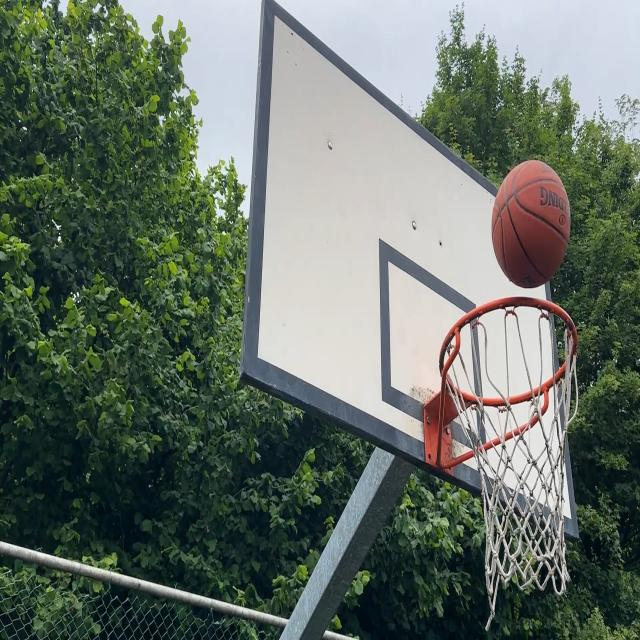Basketball: (494, 160, 572, 291)
